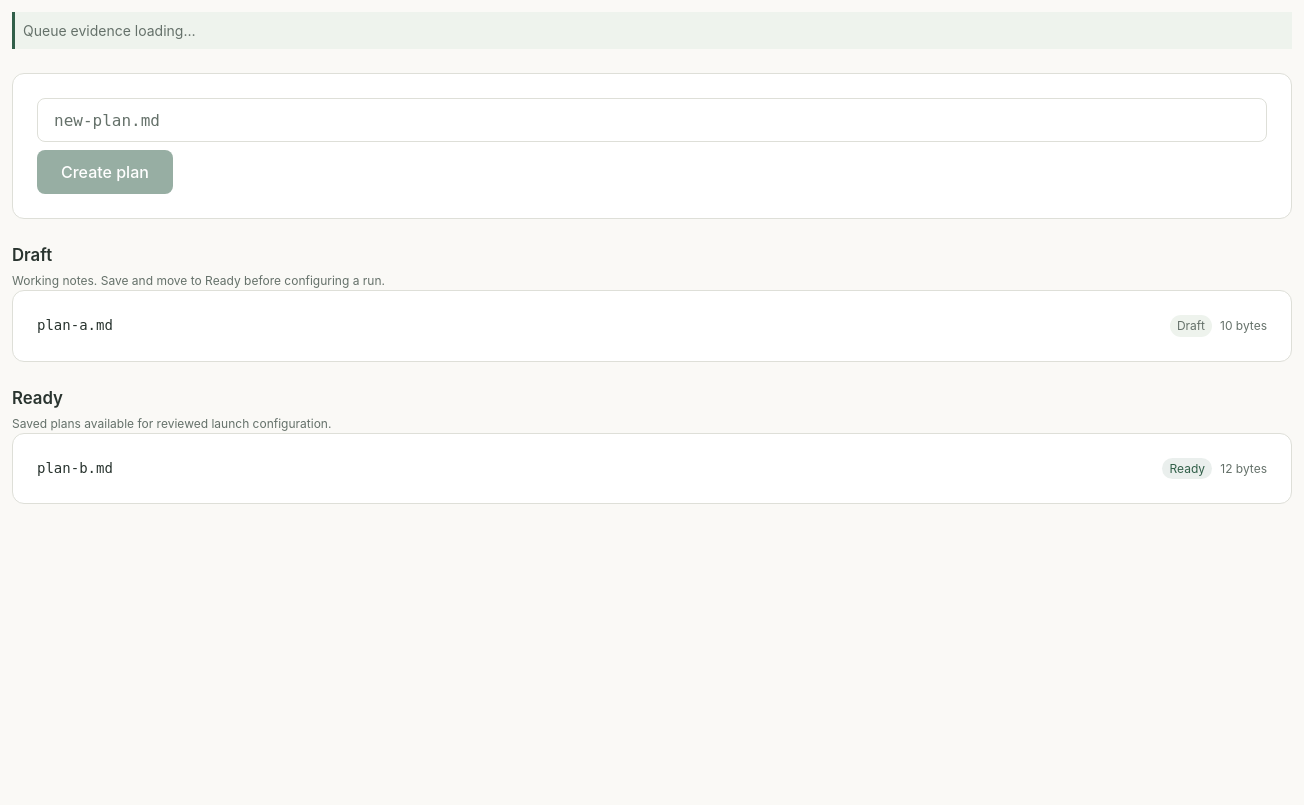
Test: PlanPanel › publishes the list while queue evidence is held and keeps an edited document on queue failure
Expected: the text "Queue evidence loading…" is shown, [12,12,1292,49]
Click the button "plan-a.md Draft 10 bytes" at [75, 325], box [12,290,1292,362]
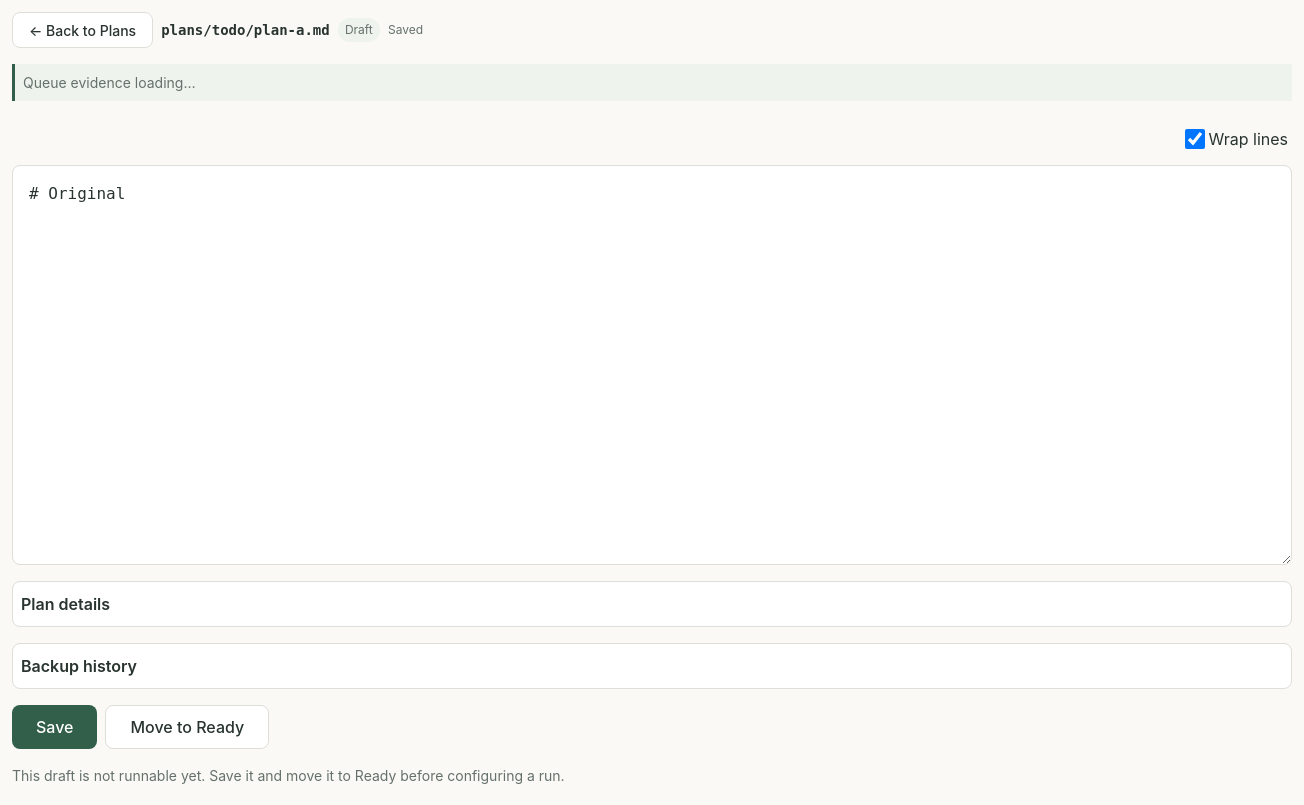
Now the text box named "Plan content" is shown
Replace the text in the text box named "Plan content" with "# Local draft" at [652, 365], box [12,165,1292,565]
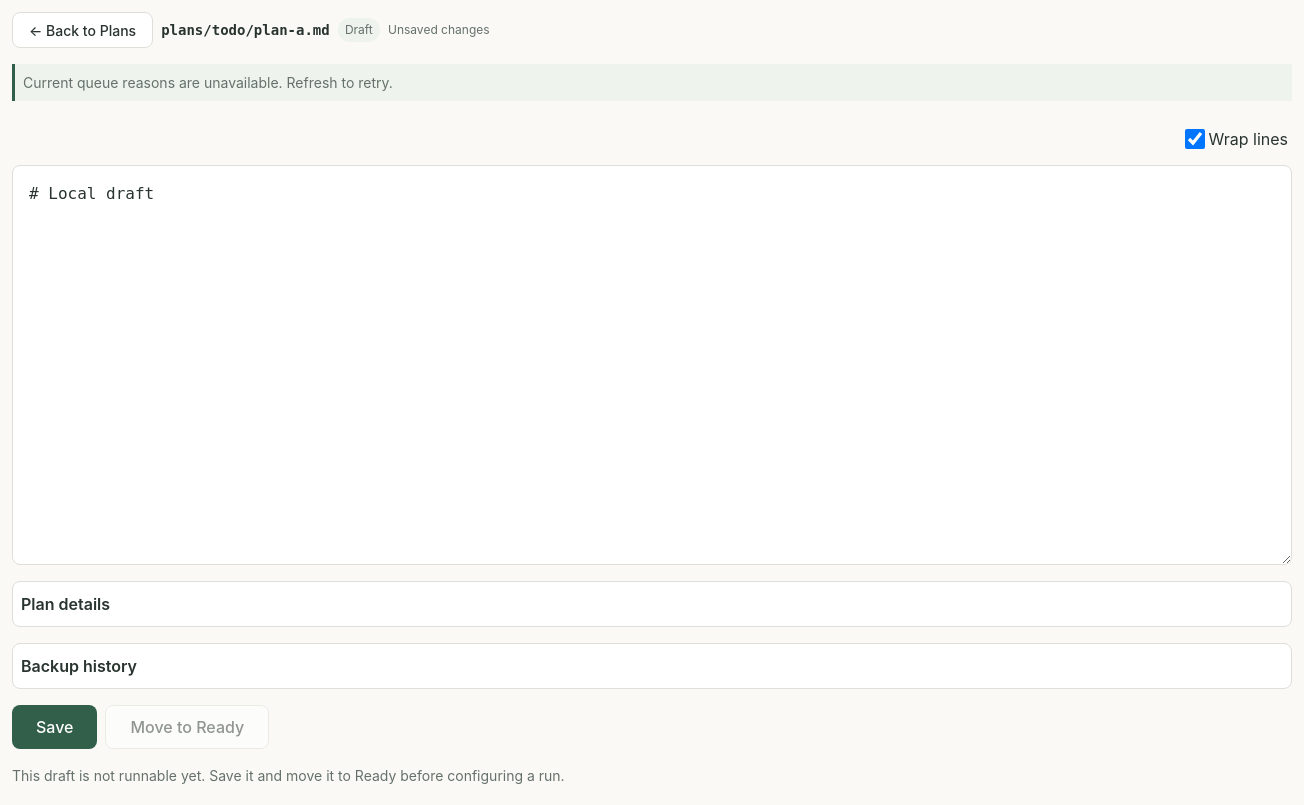
Now the text "Current queue reasons are unavailable. Refresh to retry." is shown, box [12,64,1292,101]
